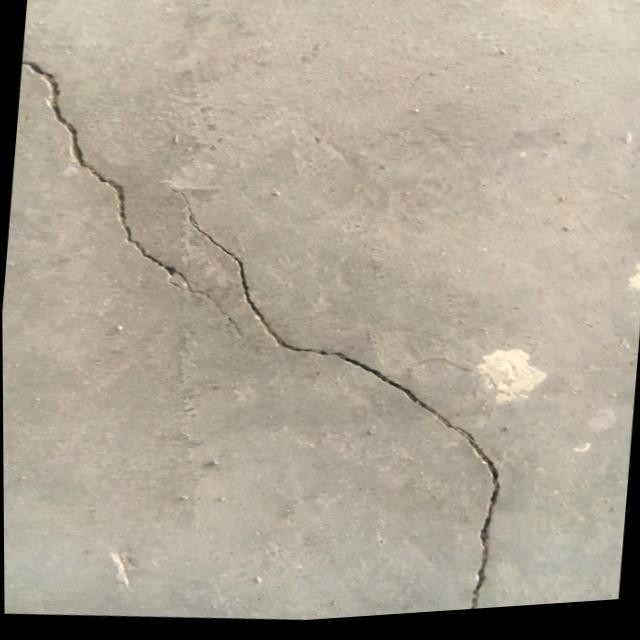Crack: (272, 326, 557, 626), (7, 41, 187, 276), (161, 183, 312, 360)
